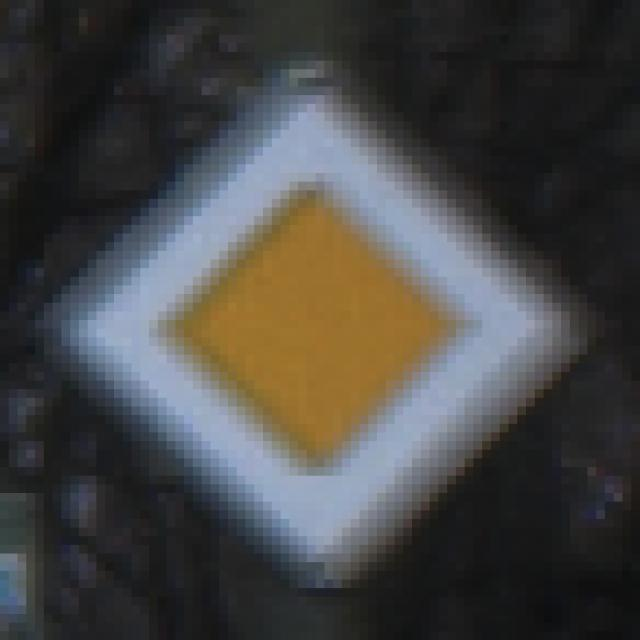Main Road: (54, 62, 589, 581)
